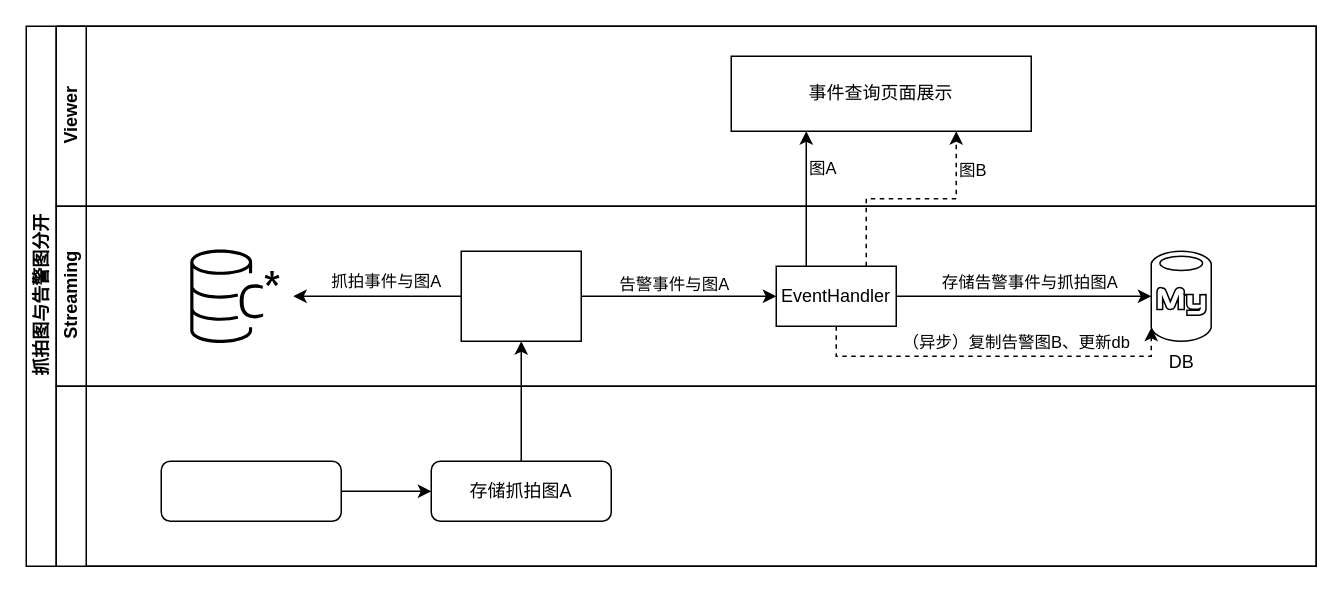
The diagram is 1343 pixels wide and 593 high, and some of its shapes have lost their labels. Here are the shapes that lost their labels. From the top down, the box of each, then its label:
(175, 236, 293, 355): Cassandra
(460, 250, 581, 341): Flink
(160, 460, 341, 521): 设备抓拍事件
(55, 385, 1316, 566): Adaptor
